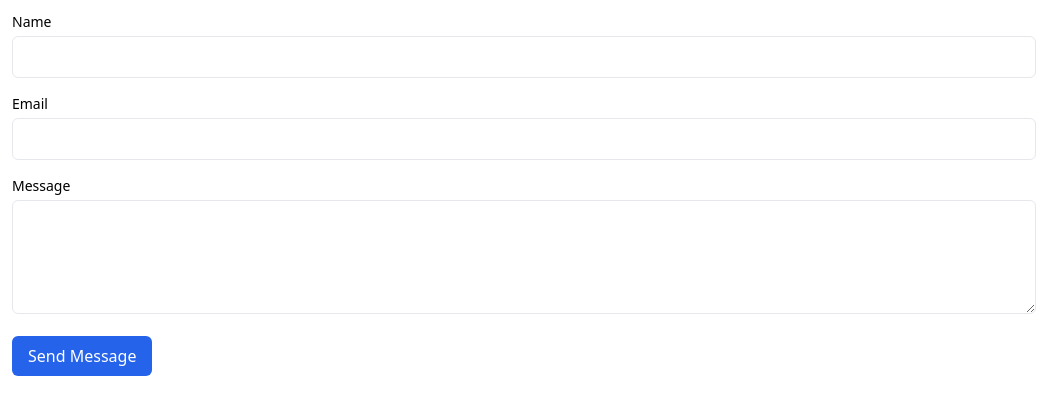
it: ContactForm validation › shows error when message is too short
This screenshot has width=1048, height=417.
In the text box with id "message": coordinates (524, 257) [12, 200, 1036, 314], type "Hi!"
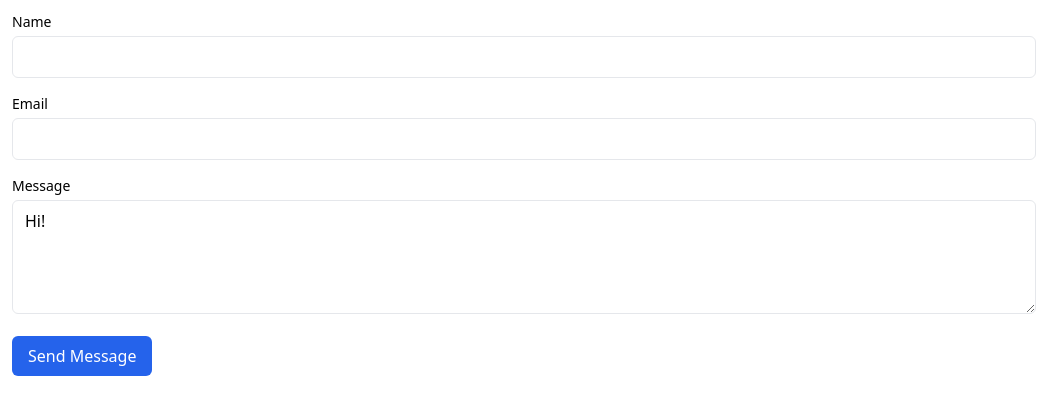
Leave the text box with id "message", box [12, 200, 1036, 314]
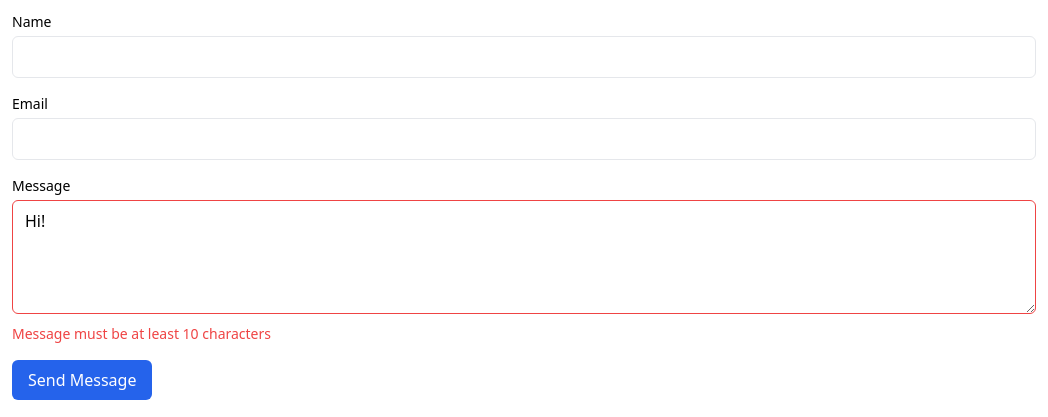
Now the text "Message must be at least 10 characters" is shown, box [12, 324, 271, 343]
